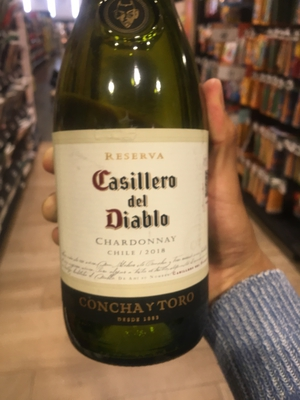casillero del diablo chardonnay: (51, 16, 227, 375)
